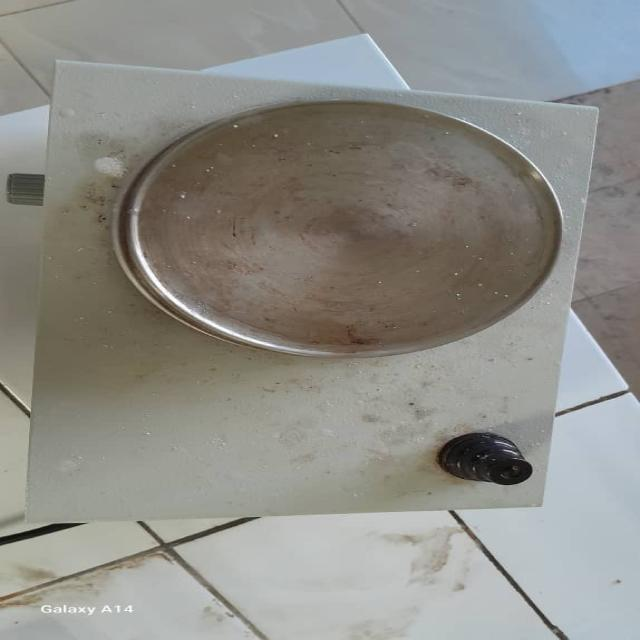Magnetic Stirrer: (5, 61, 608, 538)
